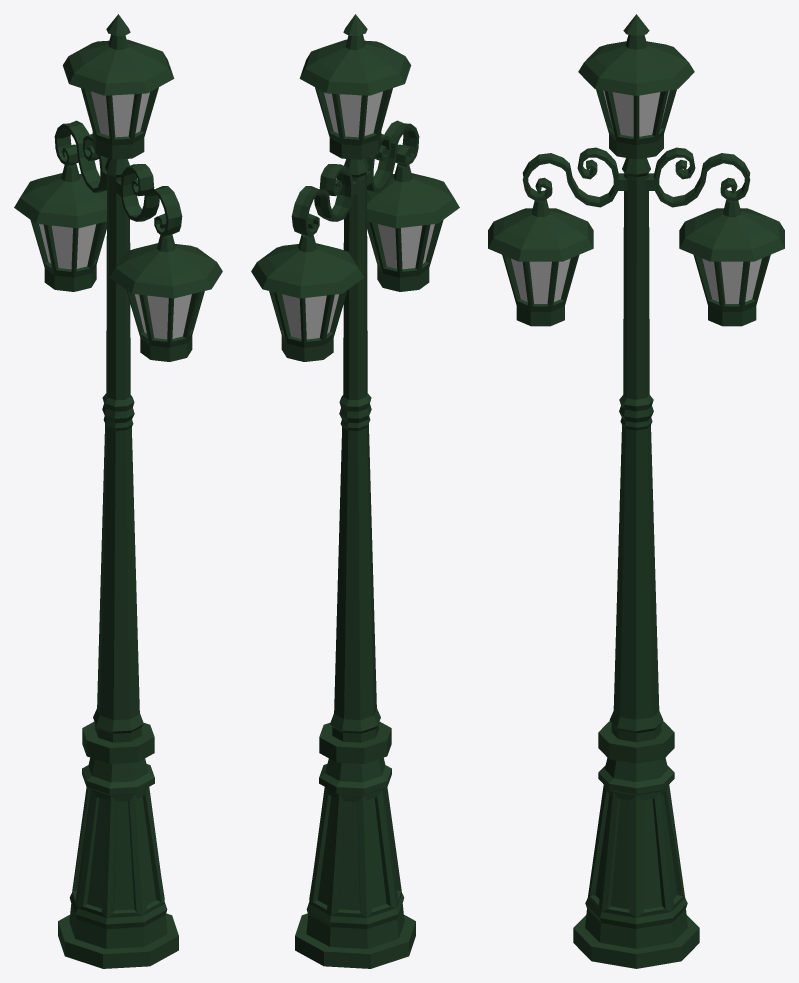
The model's file is Streetlight_Triple.glb.
3 renders of one model, left to right at view 1: azimuth 30°, elevation 25°; view 2: azimuth 150°, elevation 25°; view 3: azimuth 270°, elevation 25°, orthographic.
Visible parts, largest first — view 1: Streetlight_Triple; view 2: Streetlight_Triple; view 3: Streetlight_Triple.
Part boxes in pixels (box(x1,y1,x2,y2)): Streetlight_Triple: box(14, 14, 222, 968); Streetlight_Triple: box(251, 14, 459, 968); Streetlight_Triple: box(488, 14, 784, 968).
Size of the model in its own units: 0.1317 by 1.09 by 0.3157.
